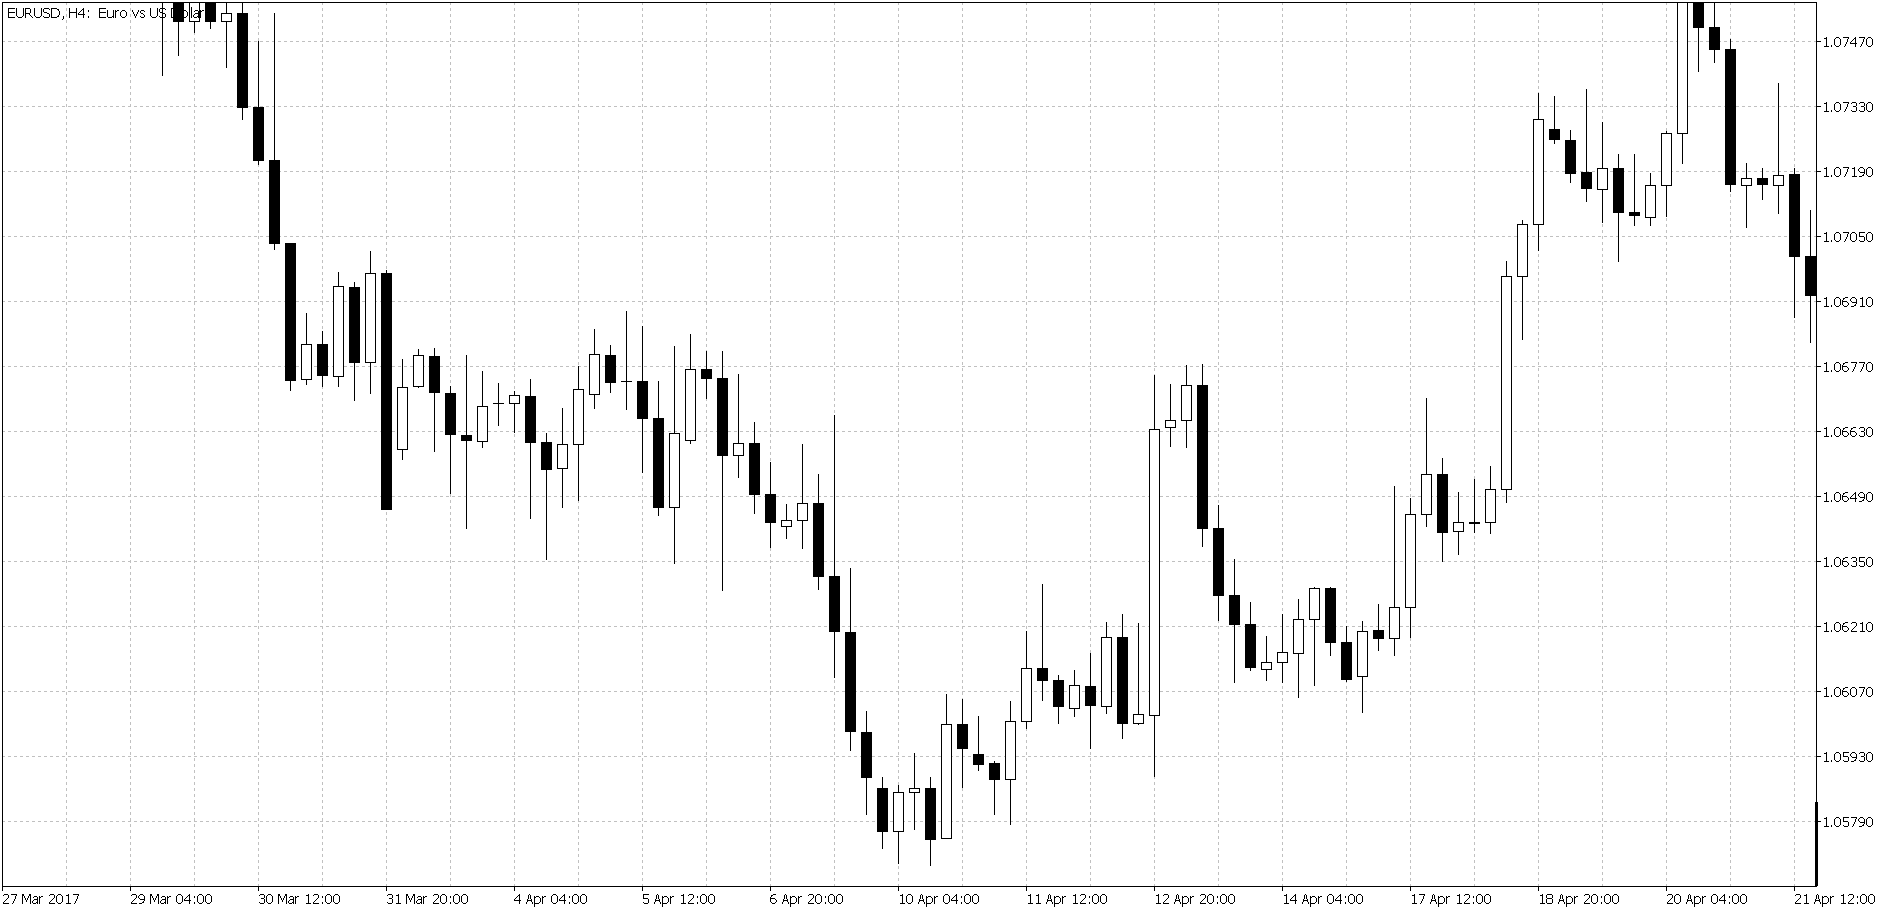3whitesoldiers: (554, 320, 602, 510)
bearishEngulfing: (1178, 362, 1210, 549)
